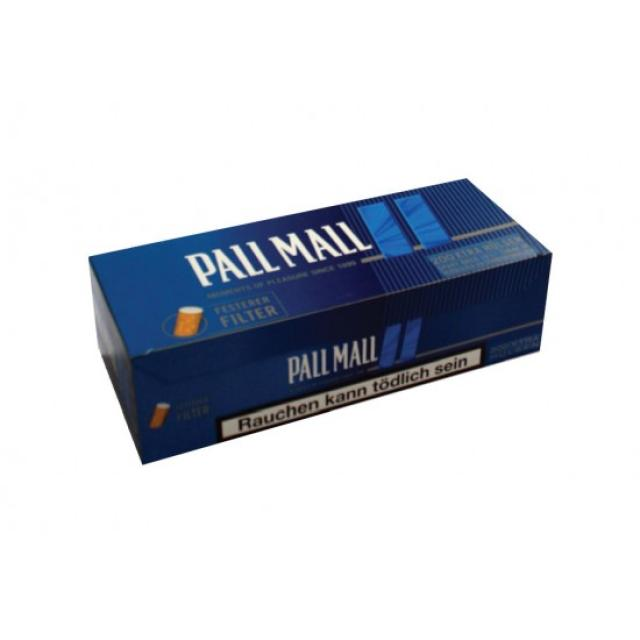pallmall: (85, 169, 558, 466)
